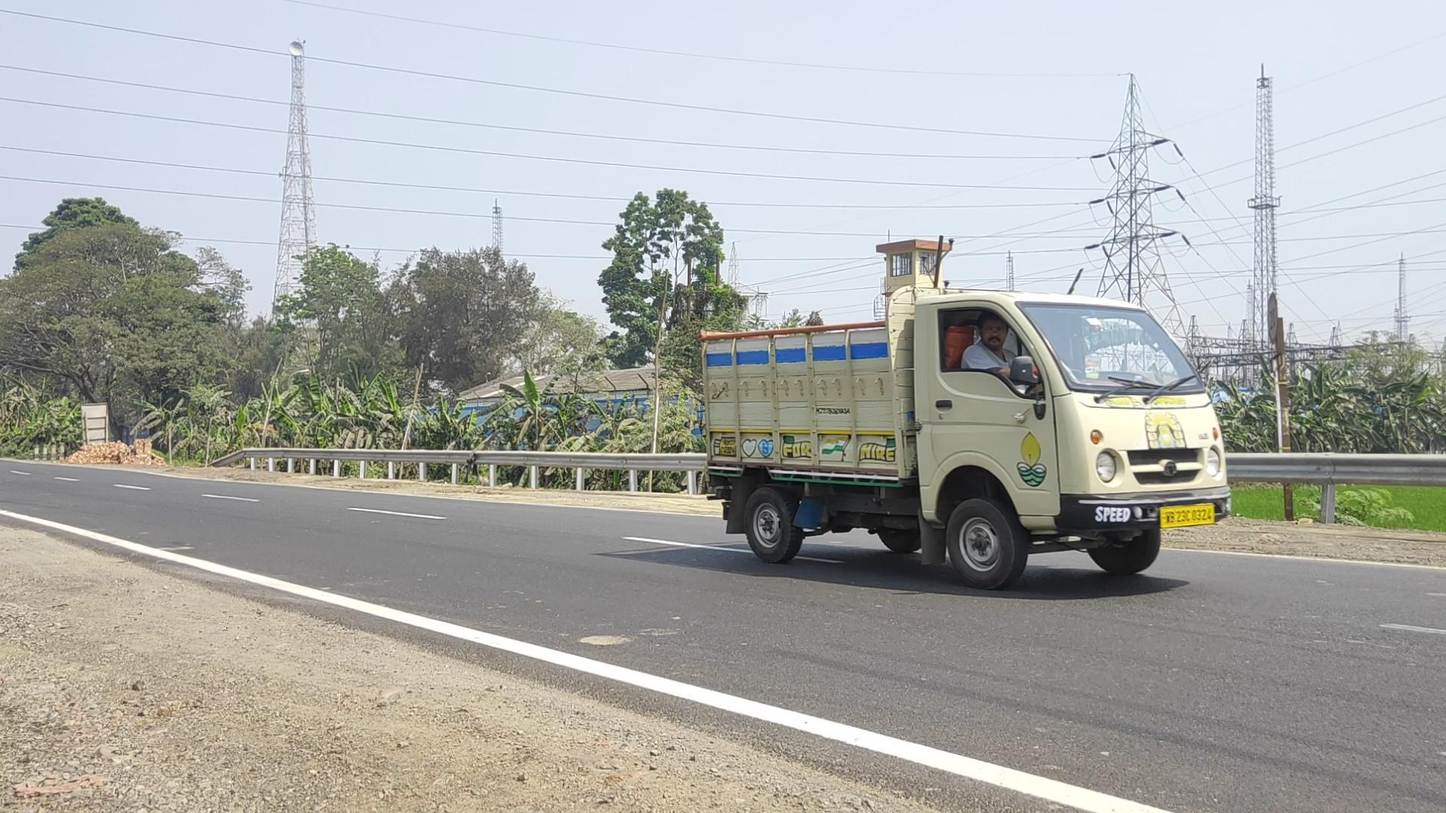van: (699, 286, 1232, 592)
